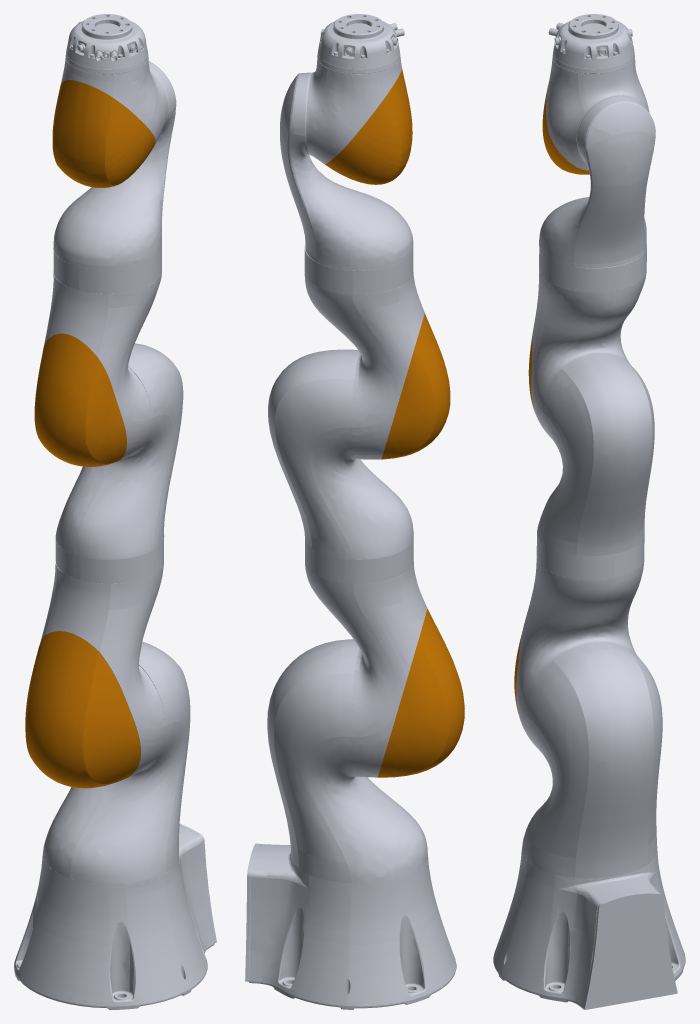
The model's file is kuka_colored.fbx.
3 renders of one model, left to right at view 1: azimuth 30°, elevation 25°; view 2: azimuth 150°, elevation 25°; view 3: azimuth 270°, elevation 25°, orthographic.
Visible parts, largest first — view 1: Polygon, Polygon_7, Polygon_5, Polygon_8, Polygon_6, Polygon_4, Polygon_3, Polygon_2; view 2: Polygon, Polygon_8, Polygon_6, Polygon_7, Polygon_5, Polygon_4, Polygon_3, Polygon_2; view 3: Polygon_8, Polygon, Polygon_6, Polygon_4, Polygon_7, Polygon_5, Polygon_3, Polygon_2.
Part boxes in pixels (left/top/right/bottom): Polygon: left=14, top=824, right=216, bottom=1009; Polygon_7: left=25, top=561, right=165, bottom=788; Polygon_5: left=34, top=271, right=161, bottom=466; Polygon_8: left=42, top=641, right=190, bottom=883; Polygon_6: left=55, top=343, right=183, bottom=583; Polygon_4: left=53, top=61, right=176, bottom=293; Polygon_3: left=52, top=57, right=168, bottom=187; Polygon_2: left=65, top=14, right=148, bottom=74; Polygon: left=245, top=843, right=456, bottom=1009; Polygon_8: left=267, top=639, right=427, bottom=883; Polygon_6: left=268, top=349, right=413, bottom=583; Polygon_7: left=305, top=562, right=464, bottom=777; Polygon_5: left=304, top=272, right=450, bottom=459; Polygon_4: left=280, top=72, right=413, bottom=294; Polygon_3: left=306, top=57, right=412, bottom=184; Polygon_2: left=317, top=14, right=404, bottom=73; Polygon_8: left=521, top=641, right=662, bottom=878; Polygon: left=493, top=850, right=685, bottom=1009; Polygon_6: left=536, top=353, right=654, bottom=579; Polygon_4: left=539, top=95, right=655, bottom=292; Polygon_7: left=514, top=557, right=644, bottom=752; Polygon_5: left=528, top=270, right=646, bottom=439; Polygon_3: left=542, top=57, right=649, bottom=174; Polygon_2: left=548, top=14, right=634, bottom=73.
Size of the model in its own units: 278 by 1306 by 243.
